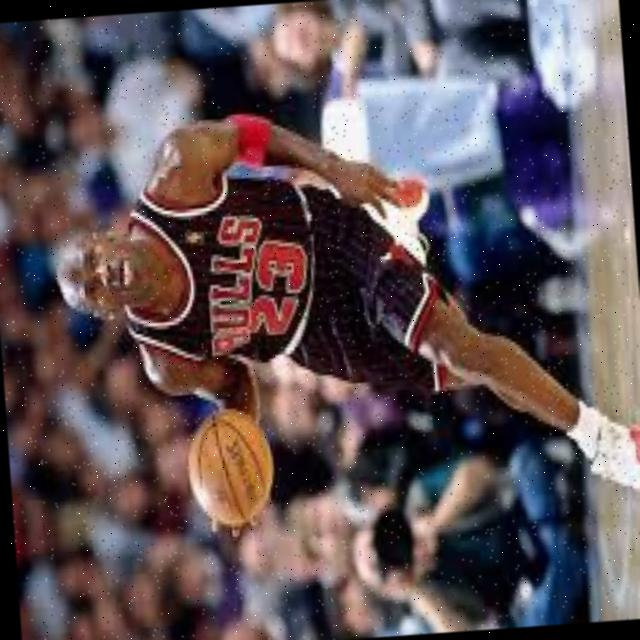ball: (183, 406, 278, 524)
